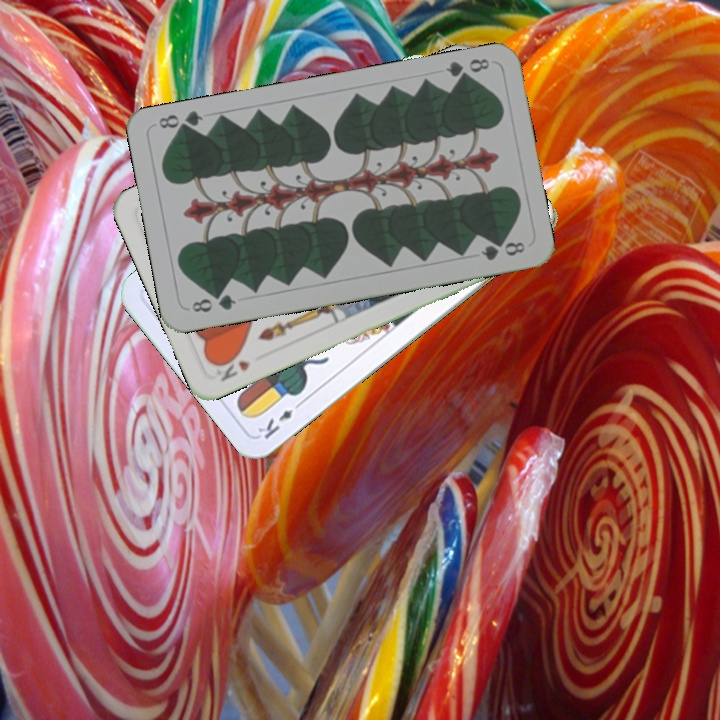EK: (254, 396, 306, 442)
G8: (441, 54, 492, 85), (187, 290, 239, 315)
HK: (210, 350, 253, 384)
